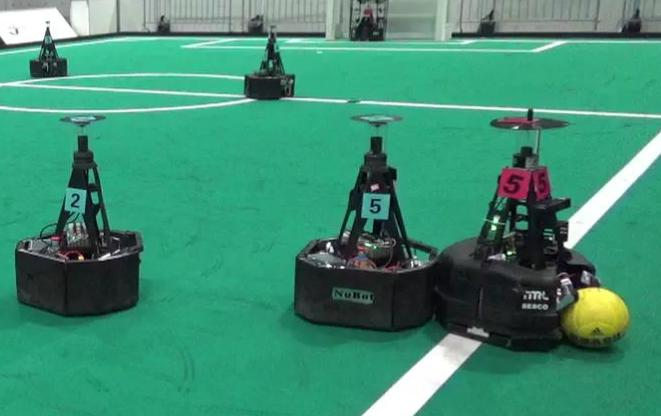robot: (439, 108, 598, 356), (292, 99, 439, 334), (12, 113, 143, 319), (240, 24, 299, 103), (26, 16, 70, 79)
